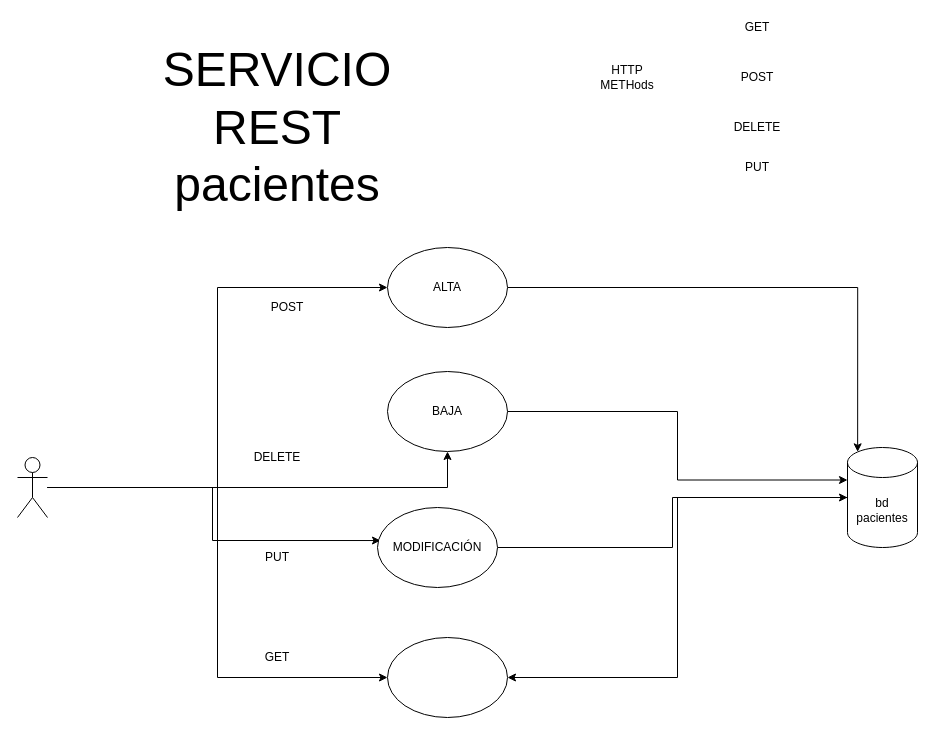
The diagram is 935 pixels wide and 735 high, and some of its shapes have lost their labels. Here are the shapes that lost their labels. From the top down, the box of each, then its label:
(16, 456, 48, 518): Actor
(386, 636, 508, 718): CONSULTA
